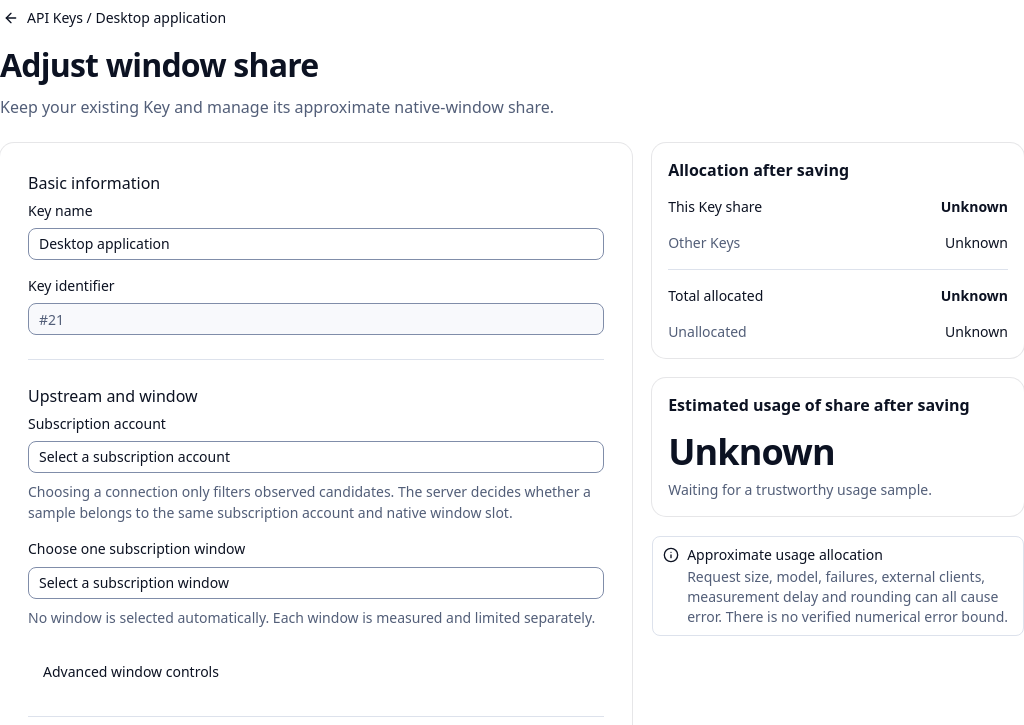
Test case: leaving advanced controls returns to the share editor without writing
The width and height of the screenshot is (1024, 725).
Select "Subscription account A · #9" in the dropdown labelled "Subscription account": [316, 457] box [28, 441, 604, 473]
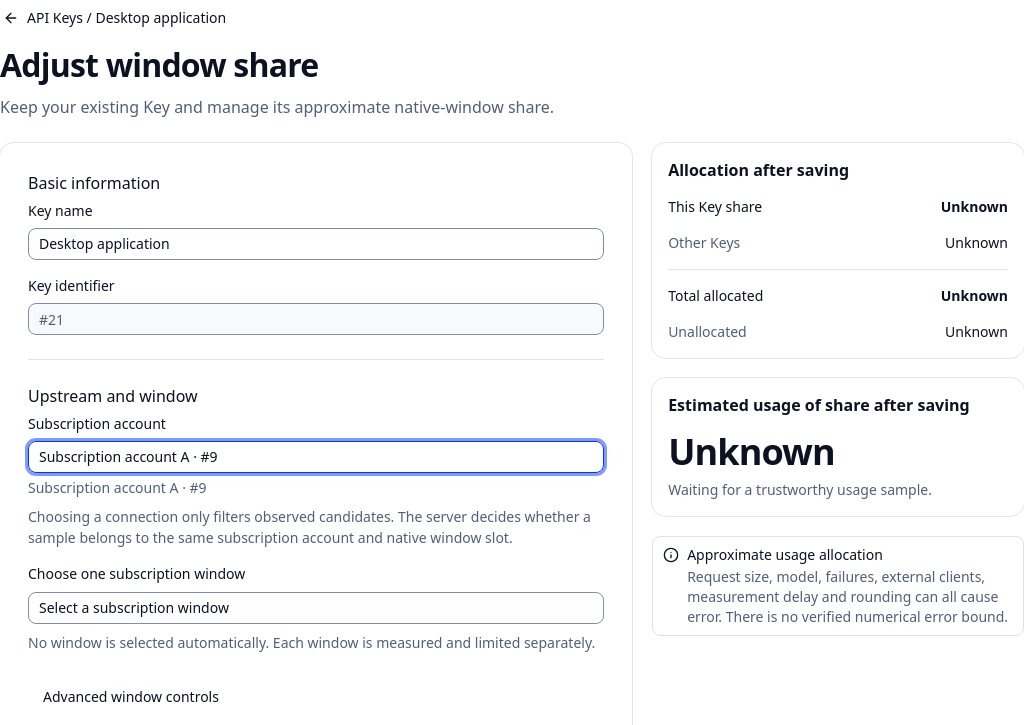
Select "5 hours · Primary window · 5-hour window" in the dropdown labelled "Choose one subscription window": [316, 608] box [28, 592, 604, 624]
(page scrolled)
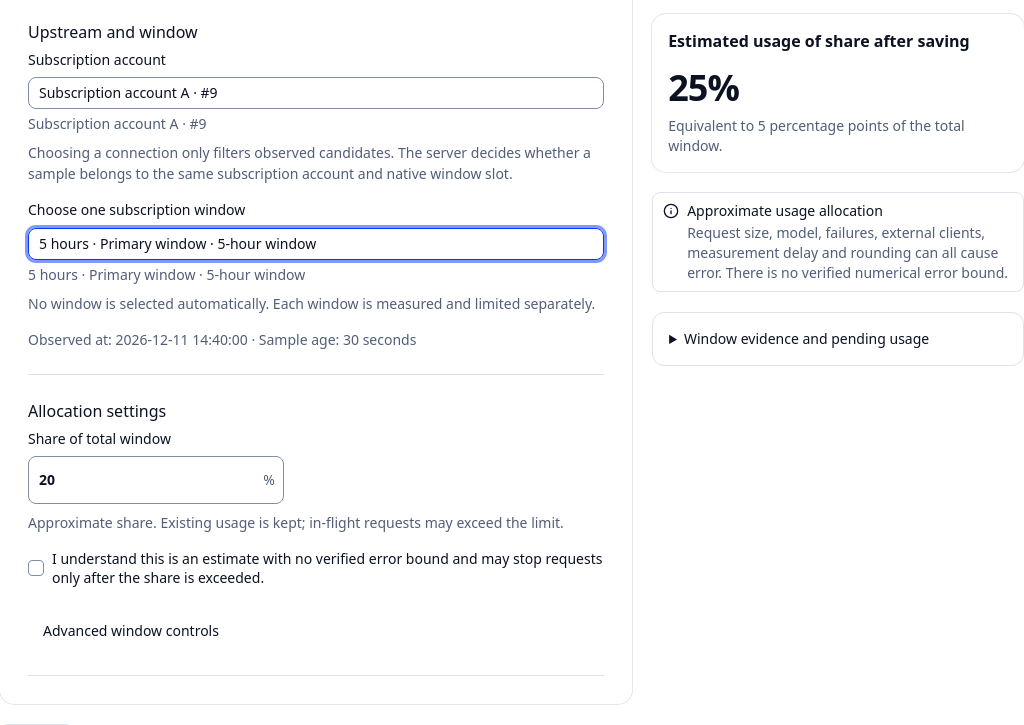
Click the button "Advanced window controls": [131, 631] box [28, 611, 234, 651]
(page scrolled)
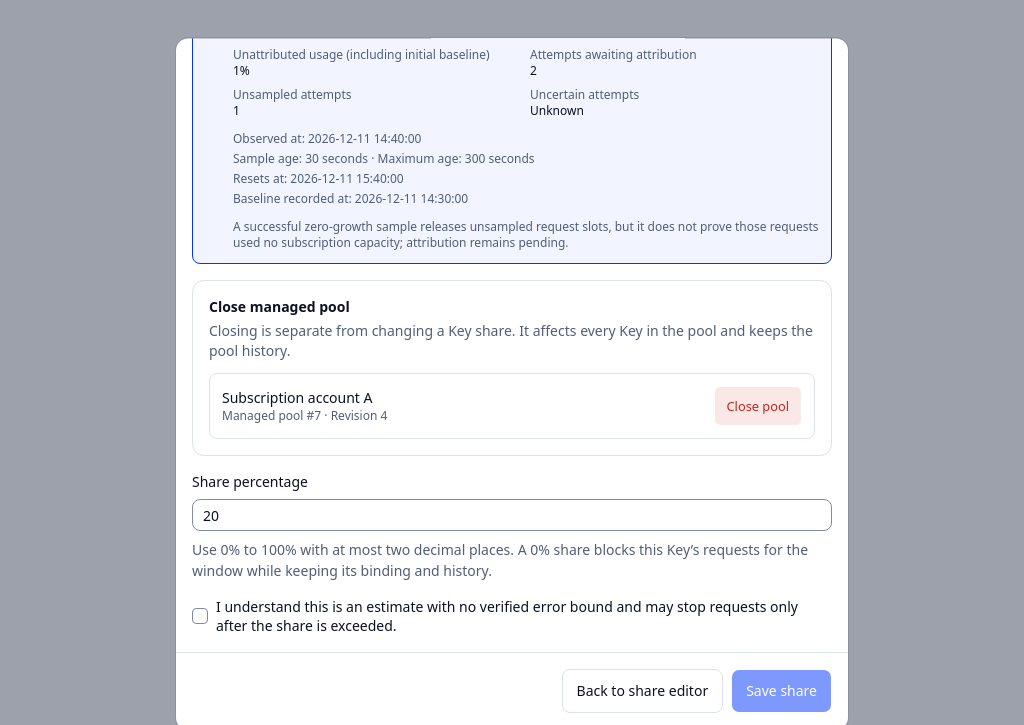
Click the button "Back to share editor": [642, 691] box [562, 669, 723, 713]
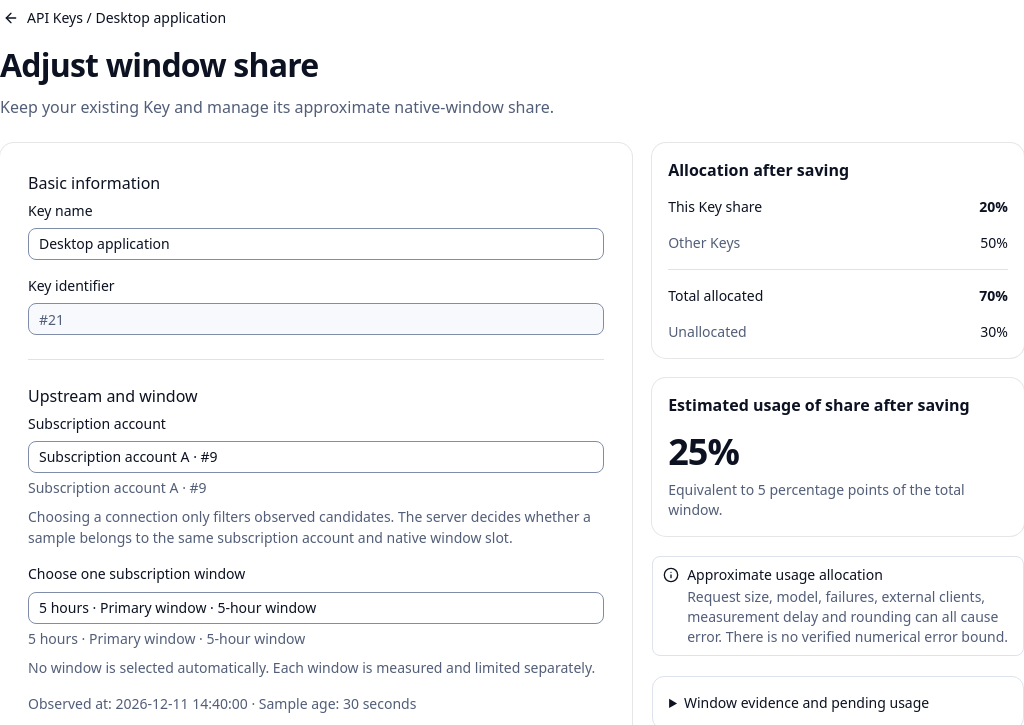
Check: the heading "Adjust window share" is shown, box [0, 43, 318, 86]
